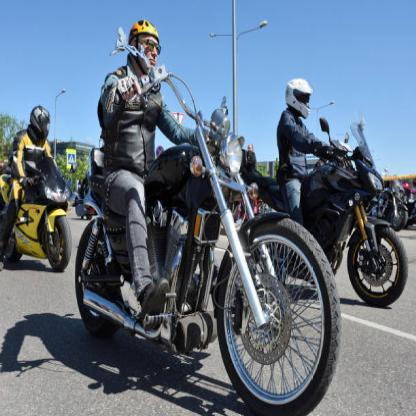Motorcycle: (78, 99, 343, 415), (271, 119, 409, 312), (0, 130, 76, 270)
